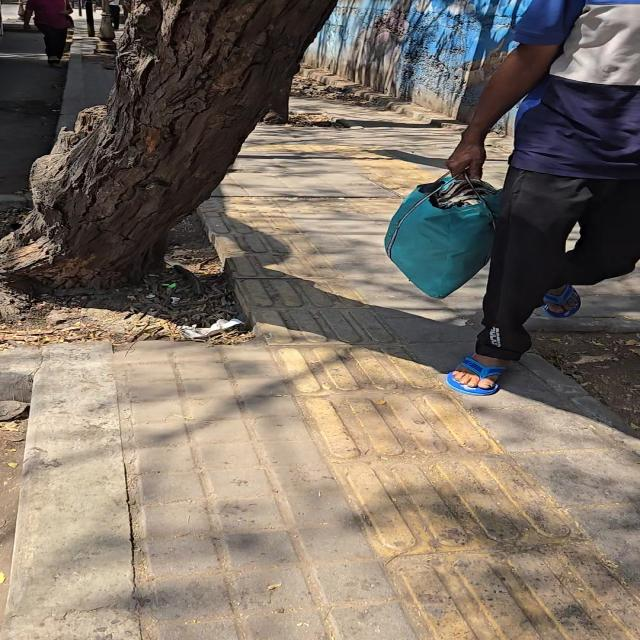bike: (447, 0, 639, 394), (24, 0, 72, 66), (95, 0, 116, 54), (85, 0, 95, 37), (110, 0, 120, 29)
